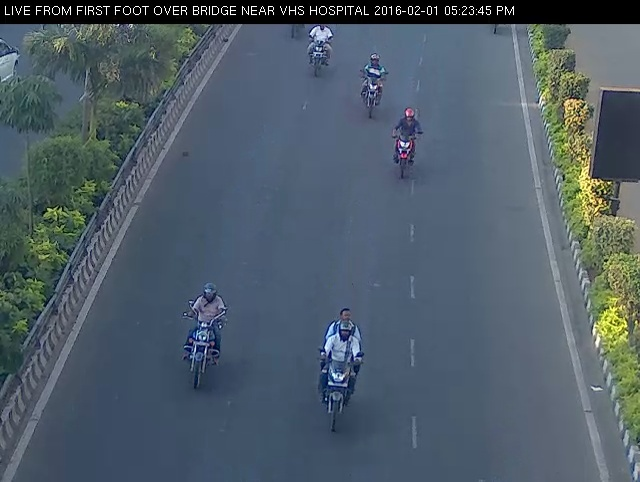Person: (312, 296, 370, 434), (170, 277, 235, 394), (349, 45, 389, 123), (390, 103, 425, 189), (300, 18, 341, 83)
